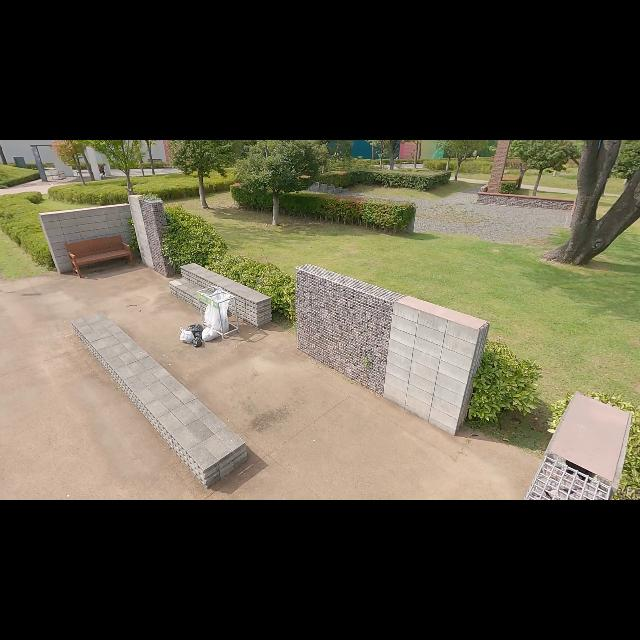trash: (179, 326, 195, 344), (202, 326, 218, 342), (188, 323, 202, 335), (192, 336, 202, 348), (195, 330, 203, 340)
